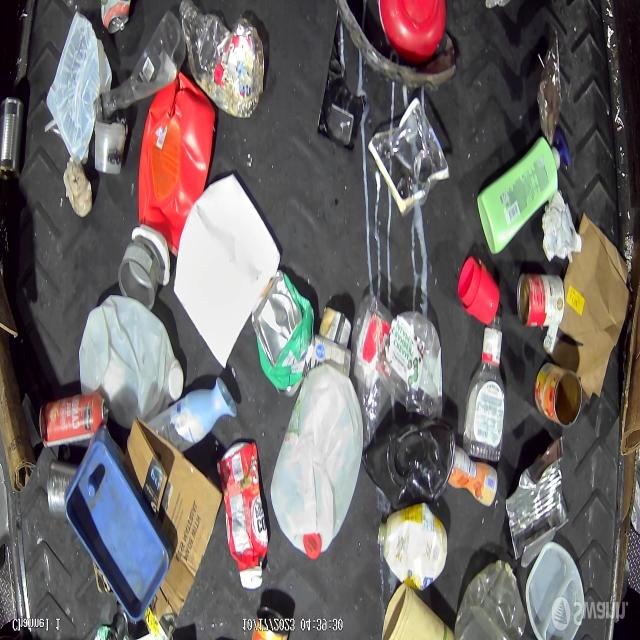can: (505, 433, 570, 561), (37, 392, 110, 448), (533, 360, 582, 430), (515, 271, 564, 329), (0, 96, 25, 180), (47, 459, 78, 518), (101, 1, 132, 34)
milk_jug: (271, 364, 362, 564), (80, 292, 186, 426)
non_white_jug: (138, 70, 218, 251)
plastic_bottle: (178, 0, 265, 121), (94, 10, 183, 120), (463, 328, 506, 462), (353, 292, 393, 434)
